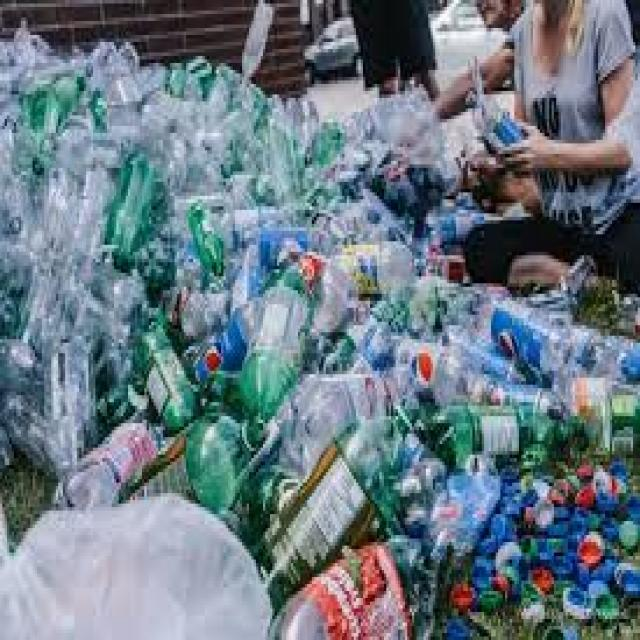heap: (17, 92, 490, 627)
